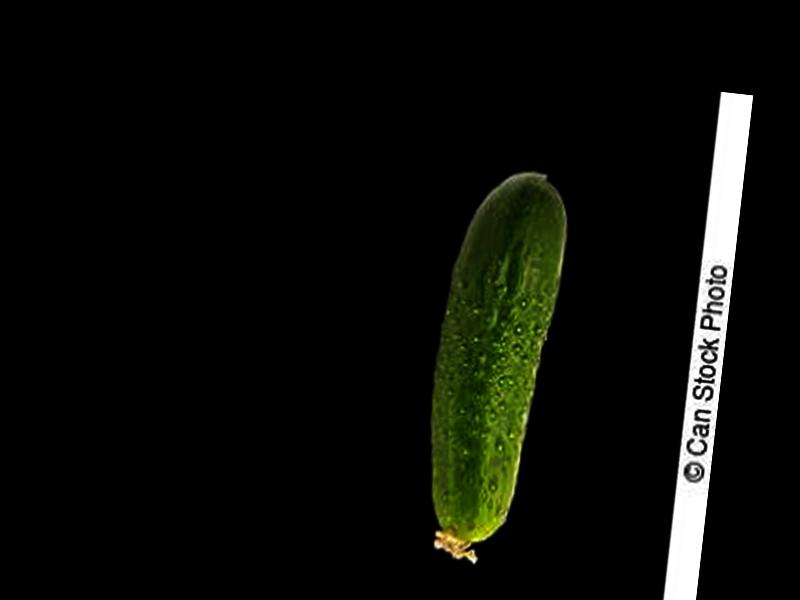Cucumber: (412, 162, 572, 570)
